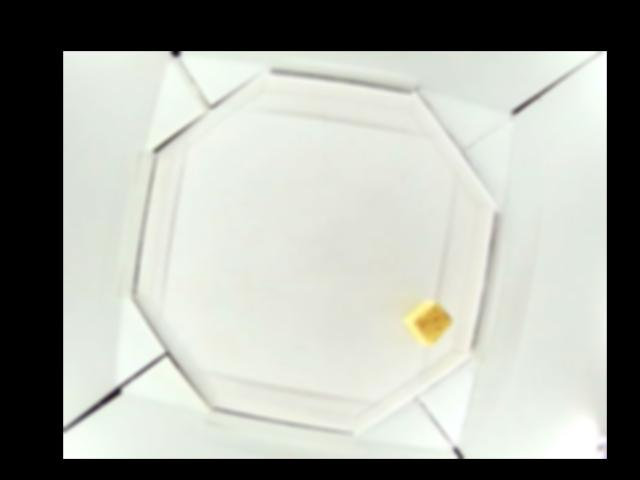Potato: (405, 296, 453, 345)
